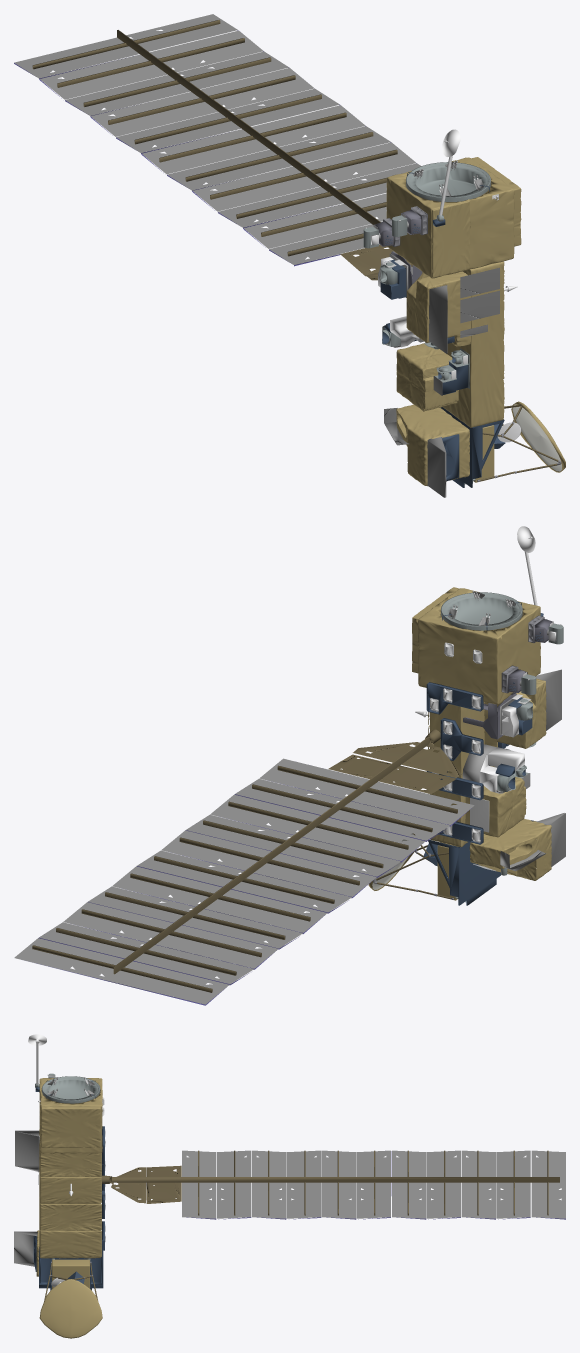
File: aqua.glb
3 views of the same model, one above another, from view 1: azimuth 30°, elevation 25°; view 2: azimuth 150°, elevation 25°; view 3: azimuth 270°, elevation 25° (orthographic). The views are drawn at different scales.
Parts seen in each view (by area): view 1: Aqua_Reduced_v0014 [Aqua_Layered_02 [Layer2]], Aqua_Reduced_v0014 [Aqua_Layered_02 [(unnamed)]], Aqua_Reduced_v0014 [Aqua_Layered_02 [Layer3]], Aqua_Reduced_v0014 [Aqua_Layered_02 [Layer10]], Aqua_Reduced_v0014 [Aqua_Layered_02 [Layer9]], Aqua_Reduced_v0014 [Aqua_Layered_02 [Layer14]], Aqua_Reduced_v0014 [Aqua_Layered_02 [Layer18]], Aqua_Reduced_v0014 [Aqua_Layered_02 [Layer16]], Aqua_Reduced_v0014 [Layer25], Aqua_Reduced_v0014 [Layer24], Aqua_Reduced_v0014 [Aqua_Layered_02 [Layer8]], Aqua_Reduced_v0014 [Aqua_Layered_02 [Layer4]]; view 2: Aqua_Reduced_v0014 [Aqua_Layered_02 [Layer2]], Aqua_Reduced_v0014 [Aqua_Layered_02 [(unnamed)]], Aqua_Reduced_v0014 [Aqua_Layered_02 [Layer3]], Aqua_Reduced_v0014 [Aqua_Layered_02 [Layer9]], Aqua_Reduced_v0014 [Aqua_Layered_02 [Layer10]], Aqua_Reduced_v0014 [Aqua_Layered_02 [Layer16]], Aqua_Reduced_v0014 [Aqua_Layered_02 [Layer4]], Aqua_Reduced_v0014 [Aqua_Layered_02 [Layer14]], Aqua_Reduced_v0014 [Aqua_Layered_02 [Layer17]], Aqua_Reduced_v0014 [Aqua_Layered_02 [Layer8]], Aqua_Reduced_v0014 [Aqua_Layered_02 [Layer12]], Aqua_Reduced_v0014 [Layer24]; view 3: Aqua_Reduced_v0014 [Aqua_Layered_02 [Layer2]], Aqua_Reduced_v0014 [Aqua_Layered_02 [(unnamed)]], Aqua_Reduced_v0014 [Aqua_Layered_02 [Layer3]], Aqua_Reduced_v0014 [Layer24], Aqua_Reduced_v0014 [Aqua_Layered_02 [Layer14]], Aqua_Reduced_v0014 [Aqua_Layered_02 [Layer9]], Aqua_Reduced_v0014 [Aqua_Layered_02 [Layer10]], Aqua_Reduced_v0014 [Aqua_Layered_02 [Layer16]], Aqua_Reduced_v0014 [Aqua_Layered_02 [Layer4]].
Boxes of the visible parts, <box> form: Aqua_Reduced_v0014 [Aqua_Layered_02 [Layer2]]: <box>14,14,421,264</box>; Aqua_Reduced_v0014 [Aqua_Layered_02 [(unnamed)]]: <box>386,157,521,486</box>; Aqua_Reduced_v0014 [Aqua_Layered_02 [Layer3]]: <box>32,20,422,280</box>; Aqua_Reduced_v0014 [Aqua_Layered_02 [Layer10]]: <box>363,162,490,484</box>; Aqua_Reduced_v0014 [Aqua_Layered_02 [Layer9]]: <box>380,172,505,487</box>; Aqua_Reduced_v0014 [Aqua_Layered_02 [Layer14]]: <box>384,285,447,497</box>; Aqua_Reduced_v0014 [Aqua_Layered_02 [Layer18]]: <box>460,267,499,337</box>; Aqua_Reduced_v0014 [Aqua_Layered_02 [Layer16]]: <box>371,129,521,442</box>; Aqua_Reduced_v0014 [Layer25]: <box>512,404,561,471</box>; Aqua_Reduced_v0014 [Layer24]: <box>473,401,565,482</box>; Aqua_Reduced_v0014 [Aqua_Layered_02 [Layer8]]: <box>374,209,422,288</box>; Aqua_Reduced_v0014 [Aqua_Layered_02 [Layer4]]: <box>14,30,416,266</box>; Aqua_Reduced_v0014 [Aqua_Layered_02 [Layer2]]: <box>14,758,474,1004</box>; Aqua_Reduced_v0014 [Aqua_Layered_02 [(unnamed)]]: <box>412,587,551,880</box>; Aqua_Reduced_v0014 [Aqua_Layered_02 [Layer3]]: <box>32,729,461,992</box>; Aqua_Reduced_v0014 [Aqua_Layered_02 [Layer9]]: <box>423,602,545,905</box>; Aqua_Reduced_v0014 [Aqua_Layered_02 [Layer10]]: <box>441,592,563,901</box>; Aqua_Reduced_v0014 [Aqua_Layered_02 [Layer16]]: <box>415,526,556,842</box>; Aqua_Reduced_v0014 [Aqua_Layered_02 [Layer4]]: <box>36,783,471,1005</box>; Aqua_Reduced_v0014 [Aqua_Layered_02 [Layer14]]: <box>500,669,565,871</box>; Aqua_Reduced_v0014 [Aqua_Layered_02 [Layer17]]: <box>430,621,561,871</box>; Aqua_Reduced_v0014 [Aqua_Layered_02 [Layer8]]: <box>463,618,552,739</box>; Aqua_Reduced_v0014 [Aqua_Layered_02 [Layer12]]: <box>447,591,530,788</box>; Aqua_Reduced_v0014 [Layer24]: <box>368,842,457,900</box>; Aqua_Reduced_v0014 [Aqua_Layered_02 [Layer2]]: <box>182,1150,565,1218</box>; Aqua_Reduced_v0014 [Aqua_Layered_02 [(unnamed)]]: <box>36,1078,102,1276</box>; Aqua_Reduced_v0014 [Aqua_Layered_02 [Layer3]]: <box>101,1150,559,1215</box>; Aqua_Reduced_v0014 [Layer24]: <box>39,1259,102,1338</box>; Aqua_Reduced_v0014 [Aqua_Layered_02 [Layer14]]: <box>14,1130,39,1266</box>; Aqua_Reduced_v0014 [Aqua_Layered_02 [Layer9]]: <box>33,1080,104,1290</box>; Aqua_Reduced_v0014 [Aqua_Layered_02 [Layer10]]: <box>35,1073,100,1261</box>; Aqua_Reduced_v0014 [Aqua_Layered_02 [Layer16]]: <box>28,1034,88,1287</box>; Aqua_Reduced_v0014 [Aqua_Layered_02 [Layer4]]: <box>186,1151,565,1219</box>.
Bounding box in the file's own units: 124 × 230 × 434.
